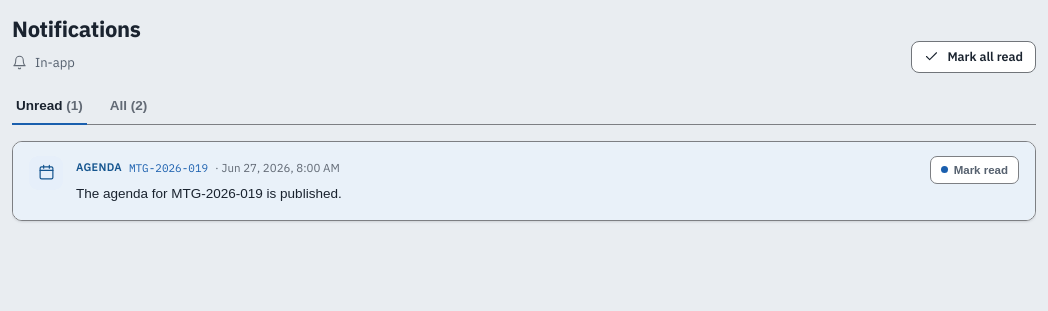
Scenario: NotificationsPage (#79 — ACMP.dc.html L706–739) › the All tab reveals read items and shows the total count
Click the tab "All (2)": (129, 106) [106, 88, 151, 124]
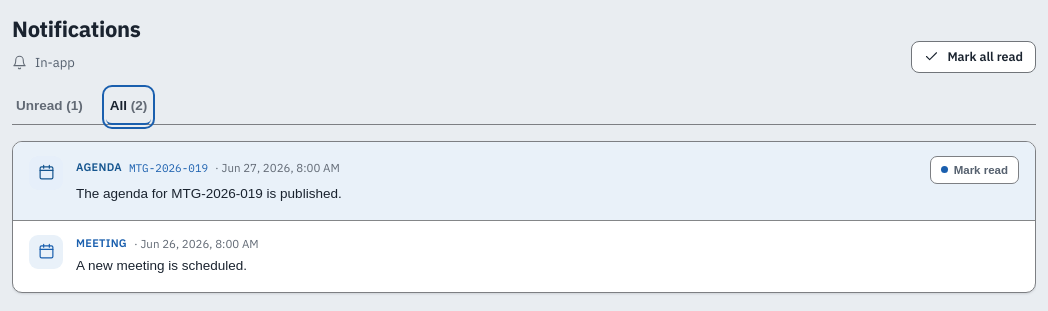
Expected: the button "A new meeting is scheduled." is shown, [76, 254, 1019, 278]
